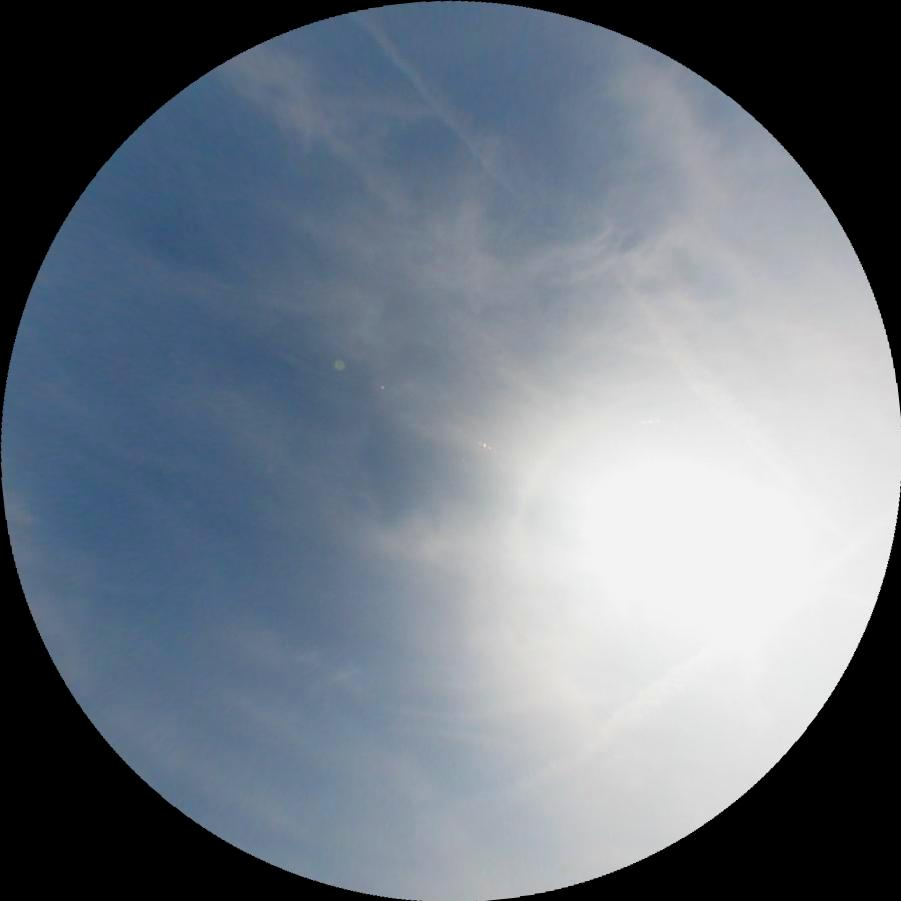contrail veryold: (439, 649, 732, 842)
sun: (578, 430, 822, 632)
